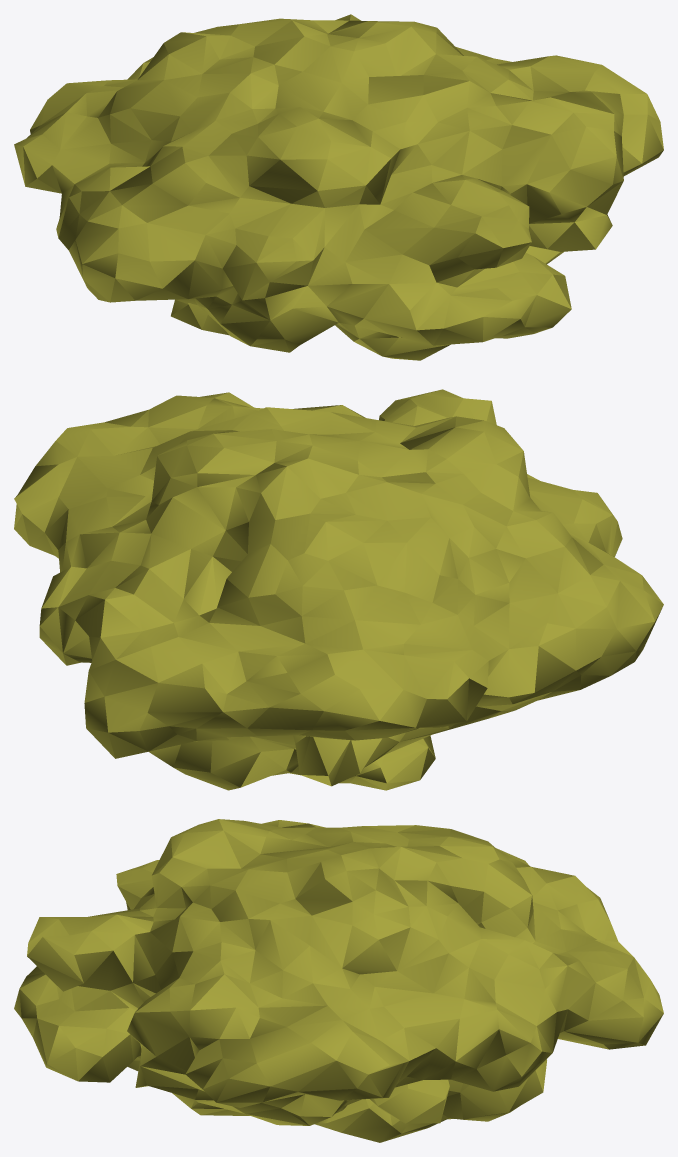
The model's file is NNtree_witch_leaves.fbx.
3 renders of one model, top to bottom at view 1: azimuth 30°, elevation 25°; view 2: azimuth 150°, elevation 25°; view 3: azimuth 270°, elevation 25°, orthographic. The views are drawn at different scales.
Visible parts, largest first — view 1: polySurface19; view 2: polySurface19; view 3: polySurface19.
Boxes of the visible parts, x1,y1,x2,y2 form: polySurface19: [14, 14, 663, 360]; polySurface19: [14, 389, 663, 790]; polySurface19: [14, 819, 663, 1142].
Size of the model in its own units: 28.57 by 13.84 by 29.39.
